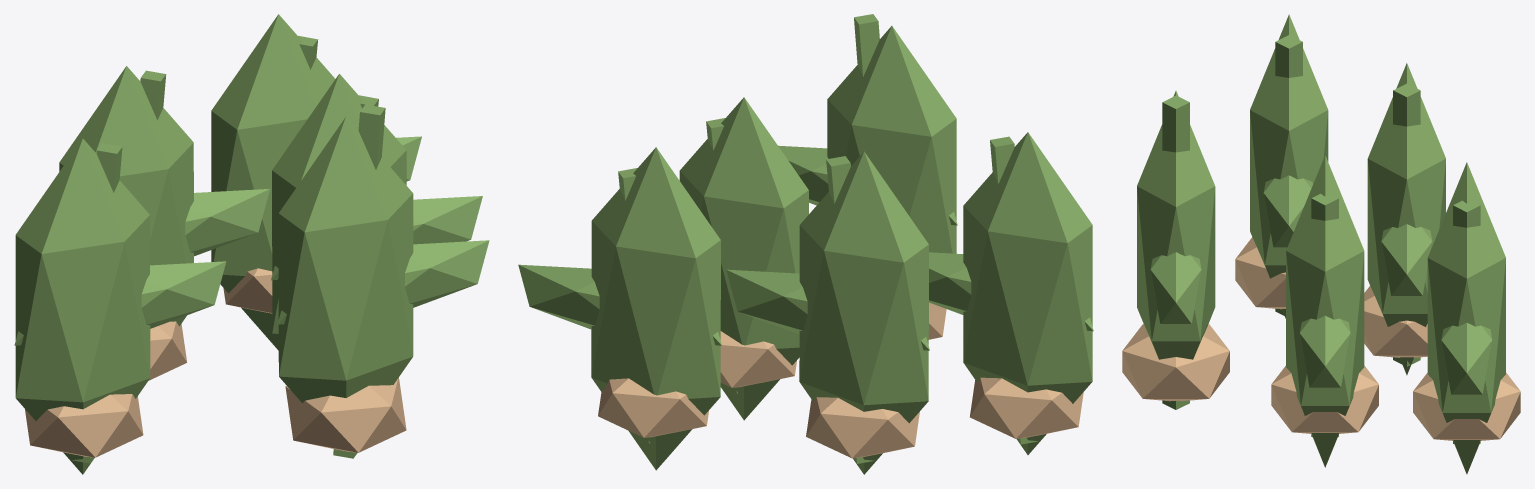
File: plant_wild_root_ripe.glb
The picture shows the model from 3 angles, left to right: view 1: azimuth 30°, elevation 25°; view 2: azimuth 150°, elevation 25°; view 3: azimuth 270°, elevation 25°; orthographic projection. The views are drawn at different scales.
Parts seen in each view (by area): view 1: plant_wild_root_ripe; view 2: plant_wild_root_ripe; view 3: plant_wild_root_ripe.
Part boxes in pixels (x1=…): plant_wild_root_ripe: x1=14, y1=14, x2=489, y2=474; plant_wild_root_ripe: x1=518, y1=14, x2=1093, y2=474; plant_wild_root_ripe: x1=1122, y1=14, x2=1520, y2=474.
Size of the model in its own units: 0.4692 by 0.331 by 0.3461.
